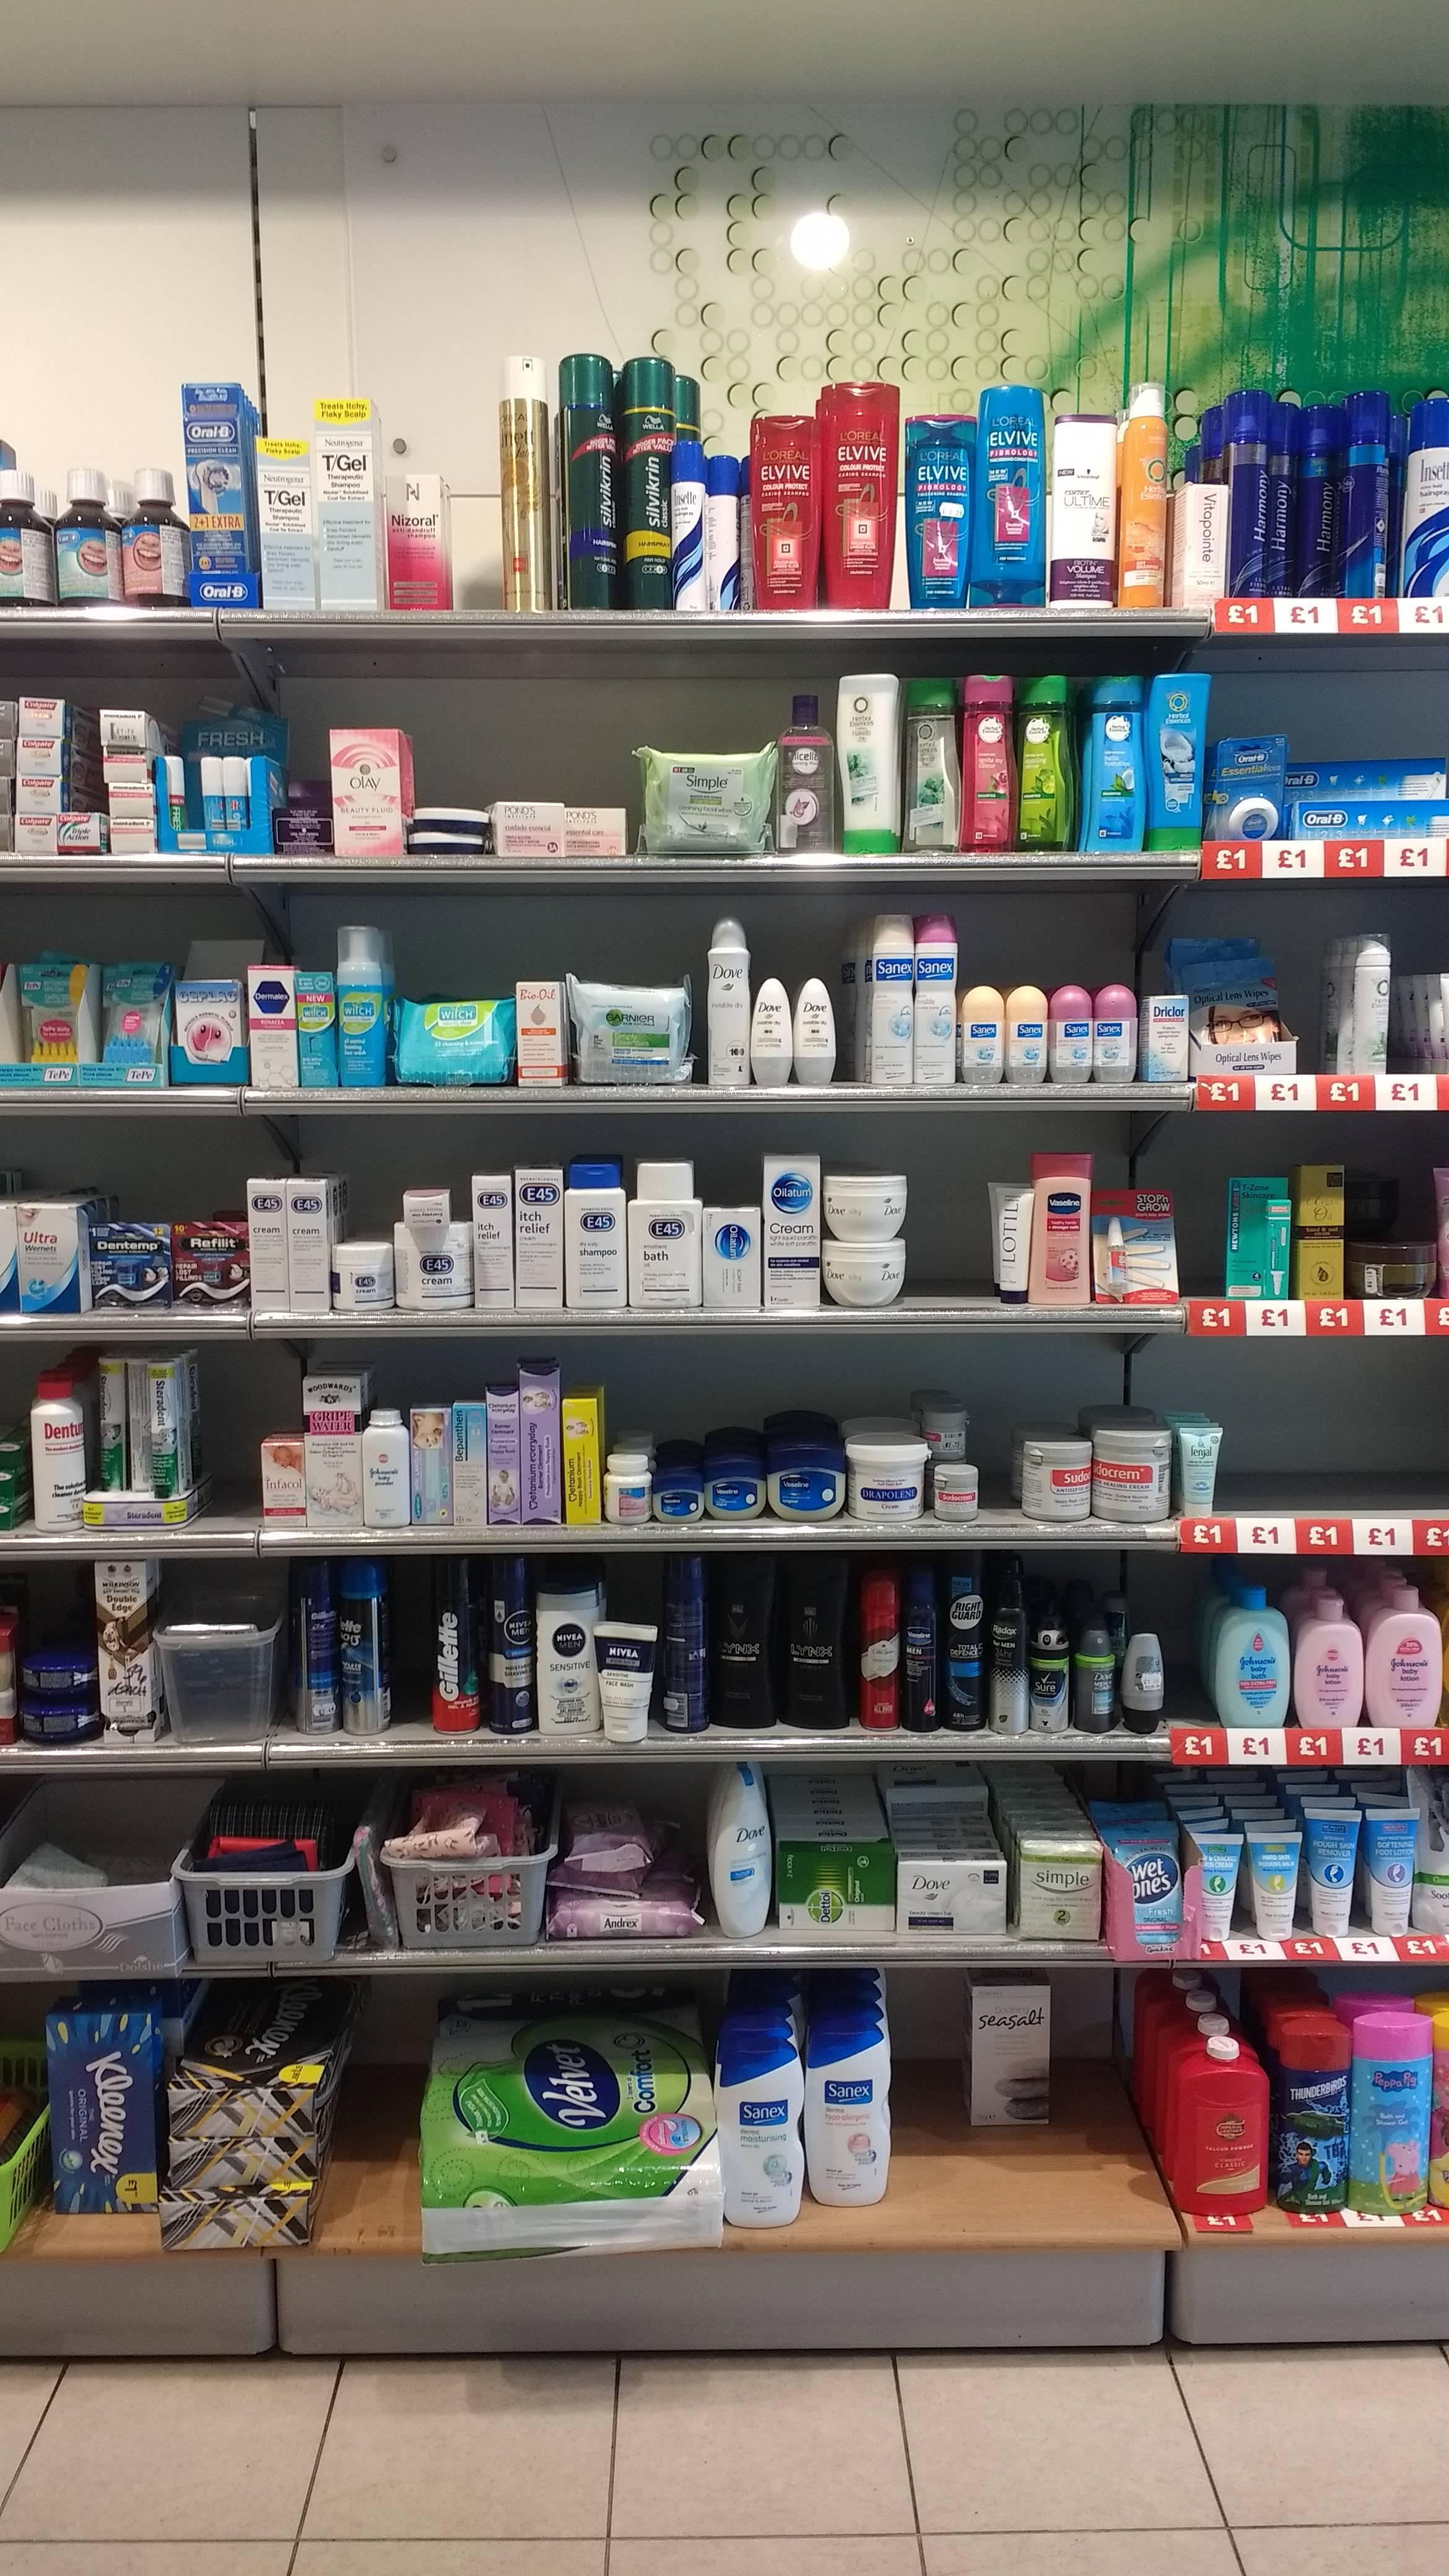empty: (888, 1980, 973, 2222), (1058, 1990, 1141, 2235), (331, 1994, 414, 2238), (189, 1362, 257, 1527), (909, 1134, 977, 1299), (1221, 1373, 1293, 1513), (1373, 1378, 1445, 1518), (1295, 1376, 1366, 1516)
